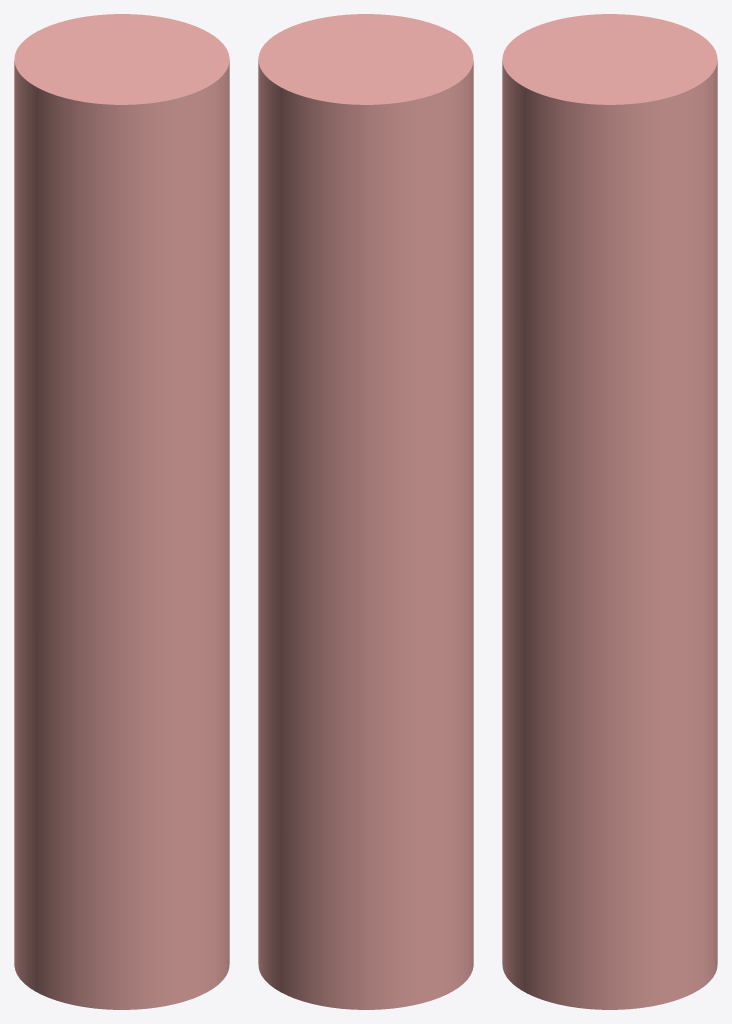
The model's file is BasicShape7.fbx.
The picture shows the model from 3 angles, left to right: view 1: azimuth 30°, elevation 25°; view 2: azimuth 150°, elevation 25°; view 3: azimuth 270°, elevation 25°; orthographic projection.
Visible parts, largest first — view 1: Piece4; view 2: Piece4; view 3: Piece4.
Part boxes in pixels (x1,y1,x2,y2): Piece4: [14, 14, 229, 1009]; Piece4: [258, 14, 473, 1009]; Piece4: [502, 14, 717, 1009].
Size of the model in its own units: 21.82 by 101 by 21.82.
